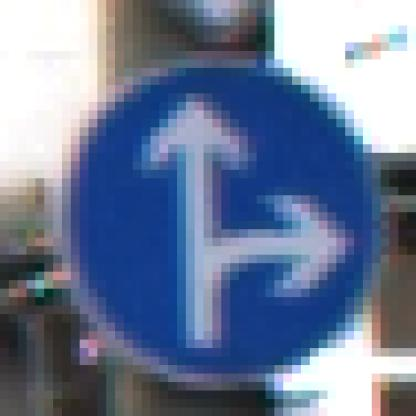Straight or Right: (54, 52, 364, 374)
